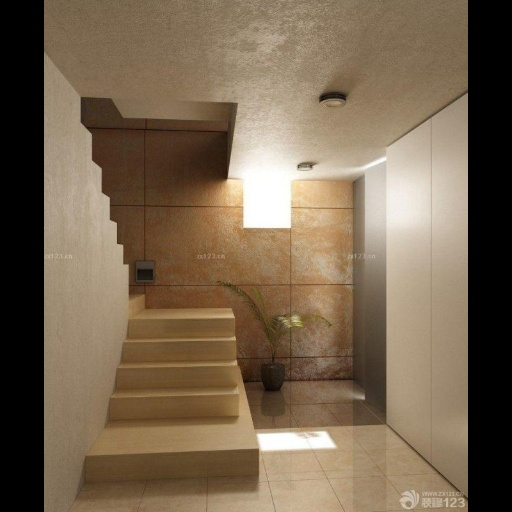Stairs: (86, 300, 259, 482)
